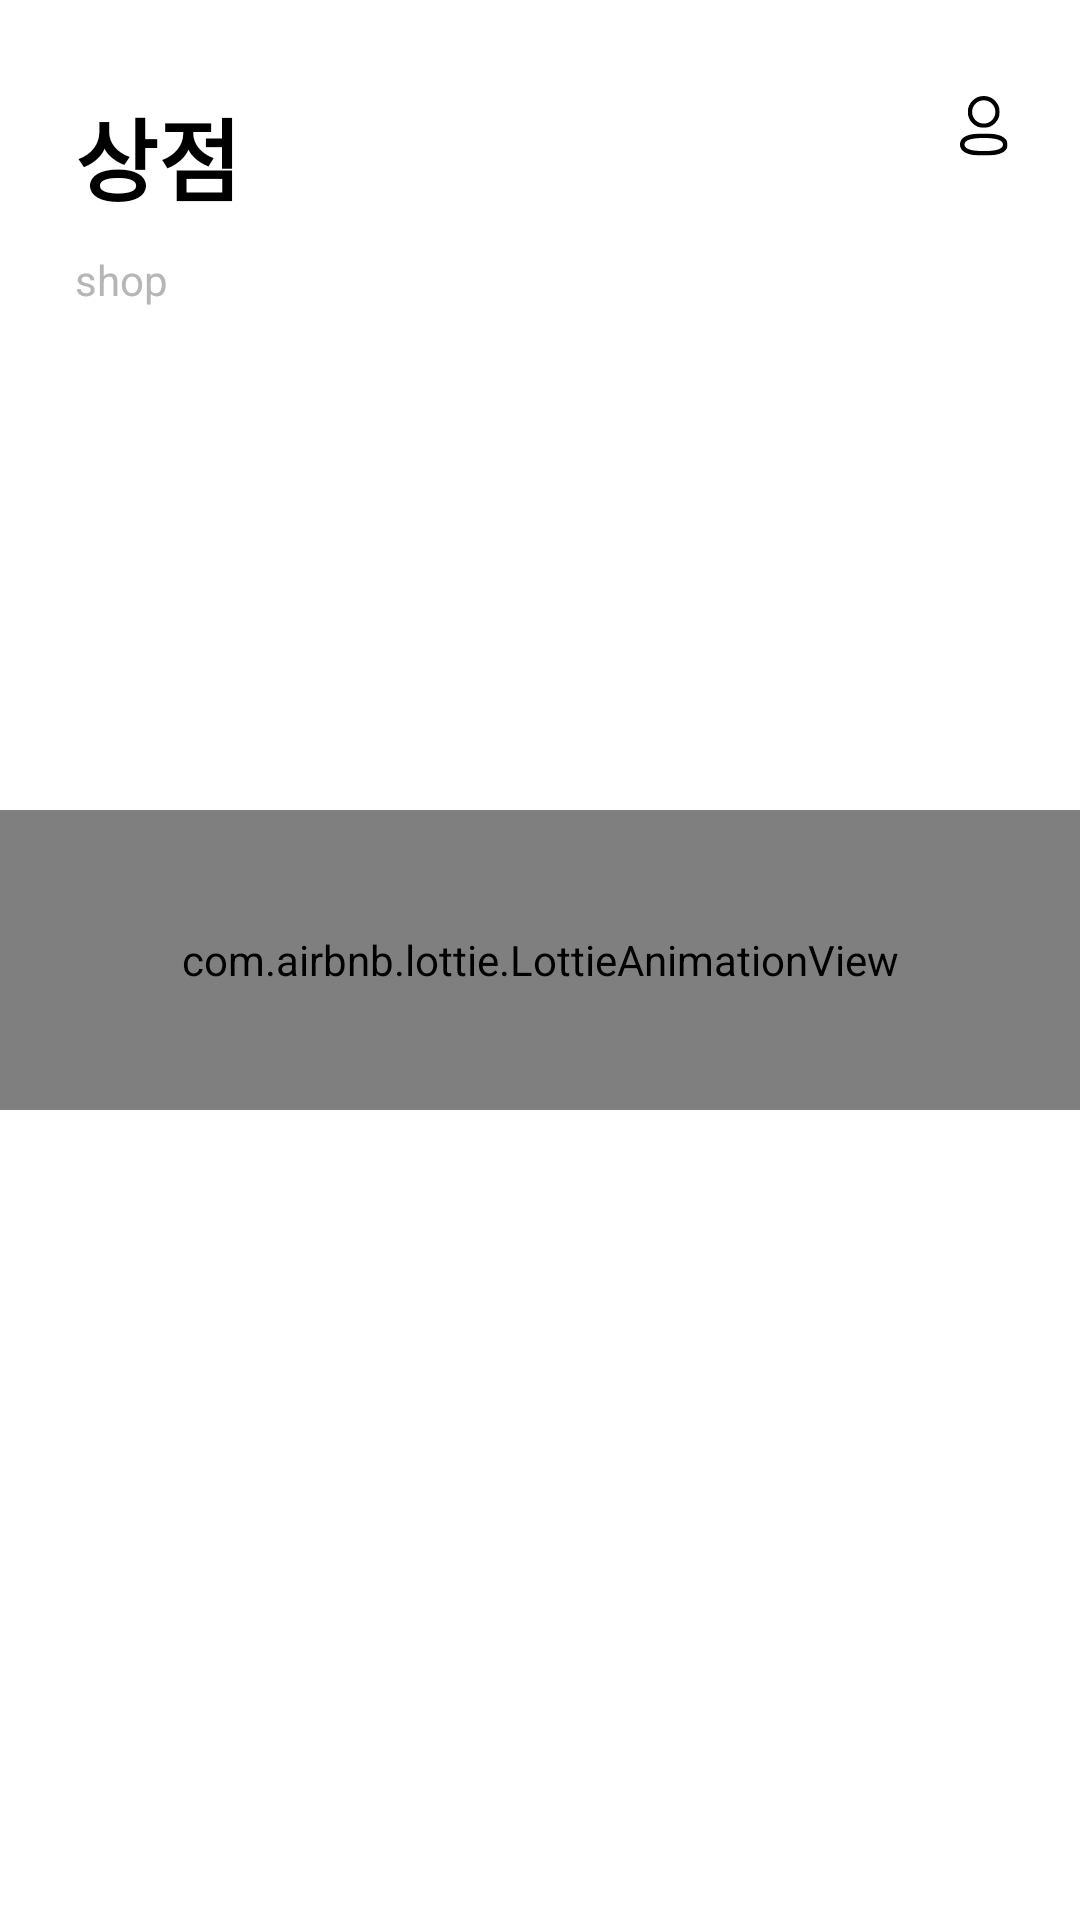

Screen size 1080 x 1920. Icon name, then its center in pixels as (x,y):
profile: (984,126)
